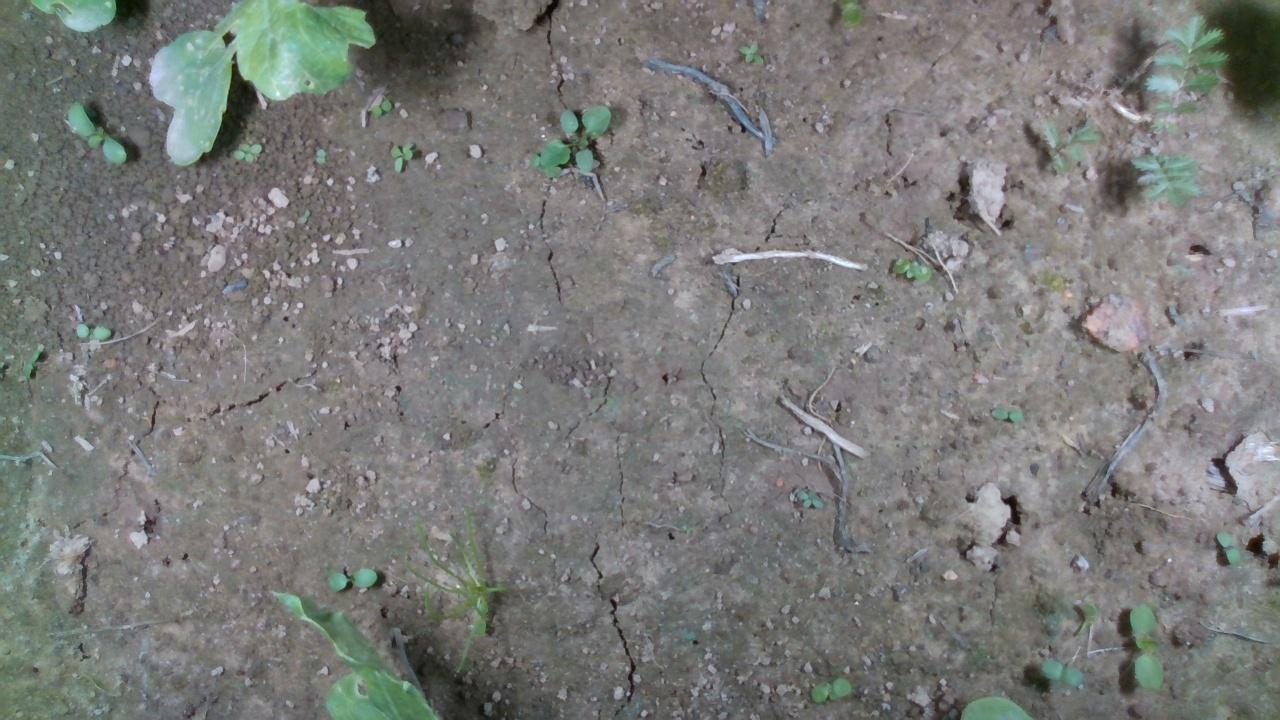weed: (61, 99, 132, 165), (383, 139, 416, 173)
